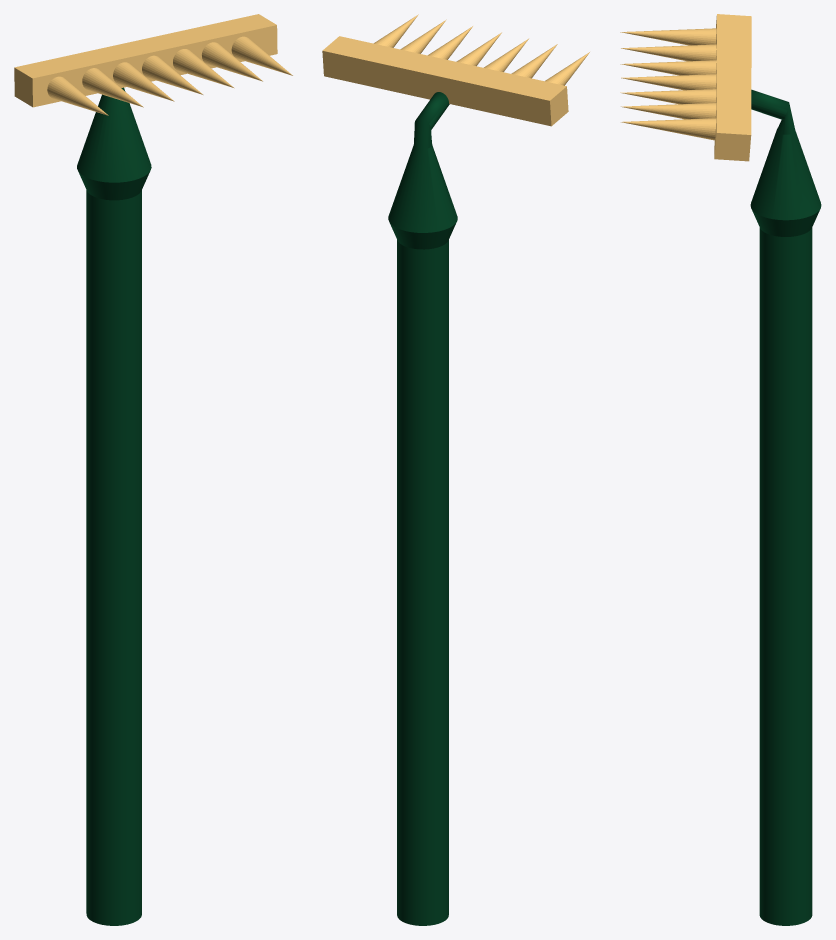
File: hark.fbx
3 renders of one model, left to right at view 1: azimuth 30°, elevation 25°; view 2: azimuth 150°, elevation 25°; view 3: azimuth 270°, elevation 25°, orthographic. The views are drawn at different scales.
Visible parts, largest first — view 1: Cylinder, Plane, Cone.006, Cone, Cone.002, Cone.005, Cone.001, Cone.003, Cone.004; view 2: Cylinder, Plane; view 3: Cylinder, Plane, Cone.006, Cone, Cone.001, Cone.005, Cone.003, Cone.002, Cone.004.
Boxes of the visible parts, bbox=[...] form: Cylinder: bbox=[77, 87, 151, 925]; Plane: bbox=[14, 14, 277, 107]; Cone.006: bbox=[231, 36, 292, 75]; Cone: bbox=[47, 76, 108, 115]; Cone.002: bbox=[113, 62, 174, 101]; Cone.005: bbox=[202, 42, 262, 81]; Cone.001: bbox=[82, 68, 143, 107]; Cone.003: bbox=[142, 55, 203, 94]; Cone.004: bbox=[173, 49, 234, 88]; Cylinder: bbox=[388, 92, 457, 925]; Plane: bbox=[322, 36, 568, 126]; Cylinder: bbox=[750, 89, 821, 925]; Plane: bbox=[714, 14, 751, 161]; Cone.006: bbox=[621, 118, 716, 140]; Cone: bbox=[620, 28, 716, 45]; Cone.001: bbox=[621, 44, 716, 61]; Cone.005: bbox=[621, 103, 716, 119]; Cone.003: bbox=[621, 74, 716, 90]; Cone.002: bbox=[620, 60, 716, 75]; Cone.004: bbox=[620, 89, 716, 104].
Bounding box in the file's own units: 200 × 697 × 151.
